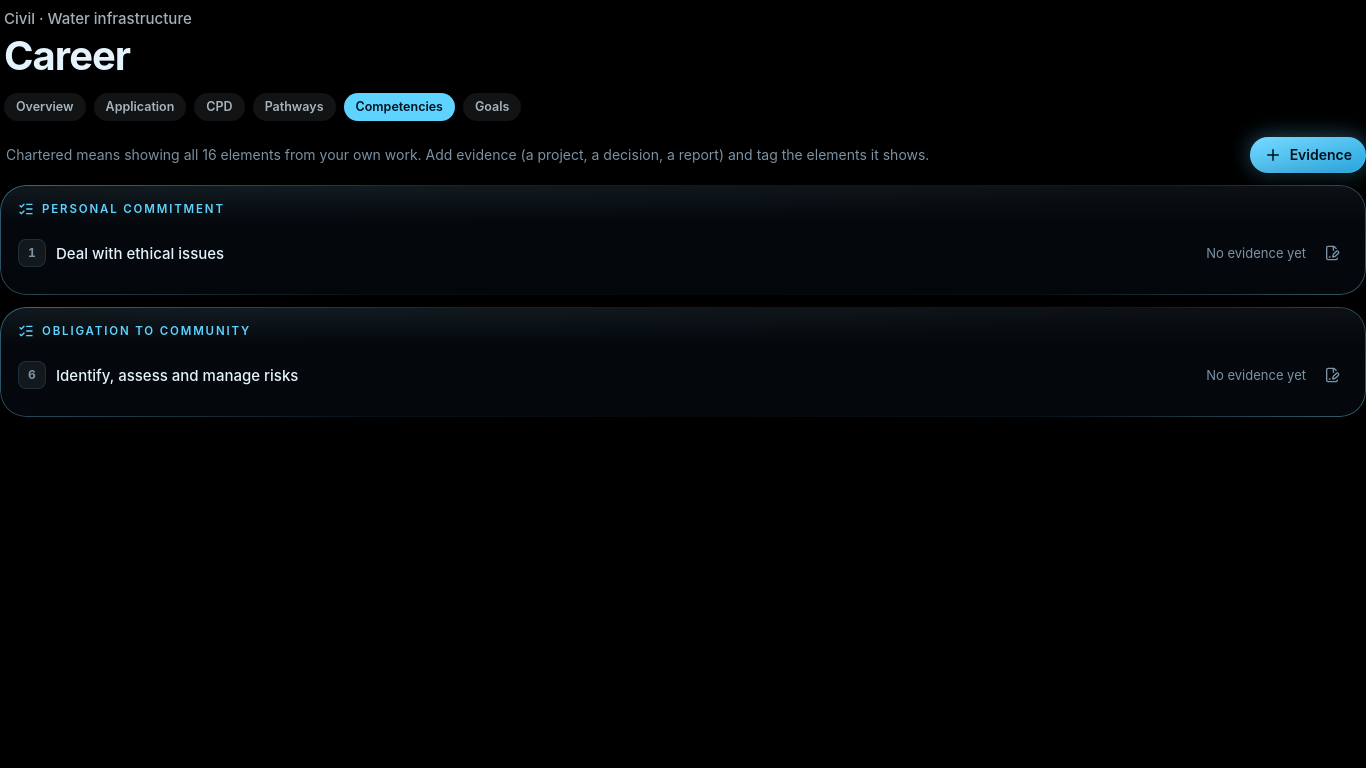
Test case: <Career /> › adds evidence tagged with competency elements and a Siris link
The image size is (1366, 768).
Expected: the text "No evidence yet" is shown 2 times, [1206,244,1306,262]; [1206,366,1306,384]
Click the button "Evidence". click: (1308, 155)
box: [1250,137,1365,173]
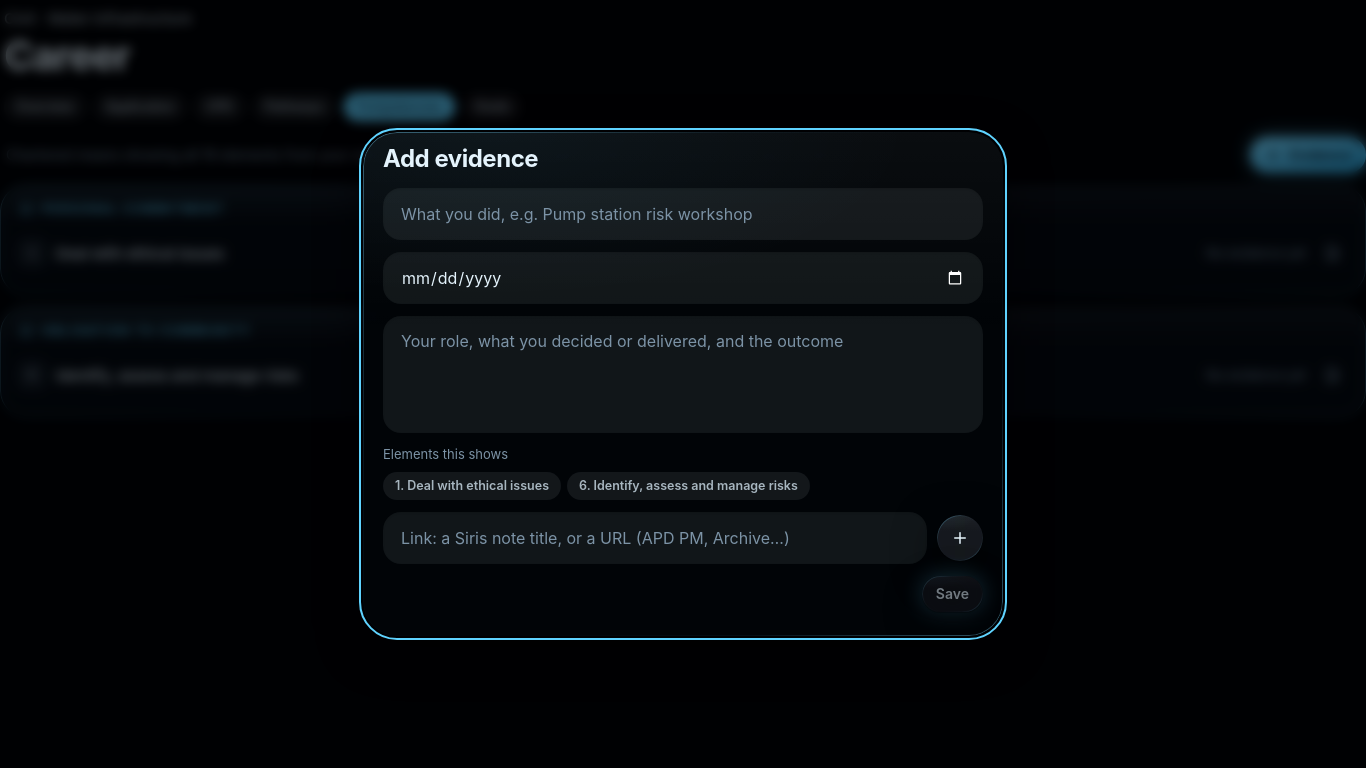
Type "Pump station risk workshop" into the field named "Title". click: (683, 214)
box: [383,188,983,240]
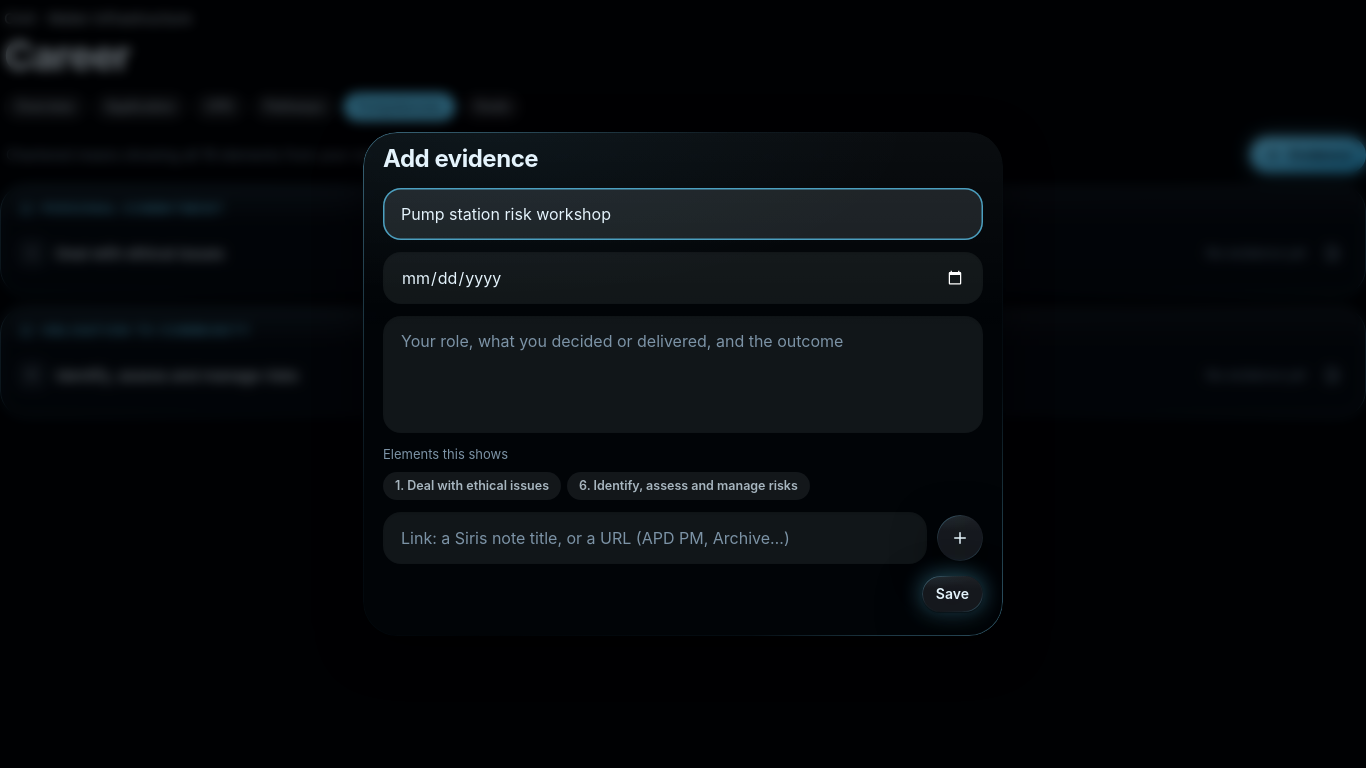
Click the button "6. Identify, assess and manage risks". click: (688, 486)
box: [567,472,810,500]
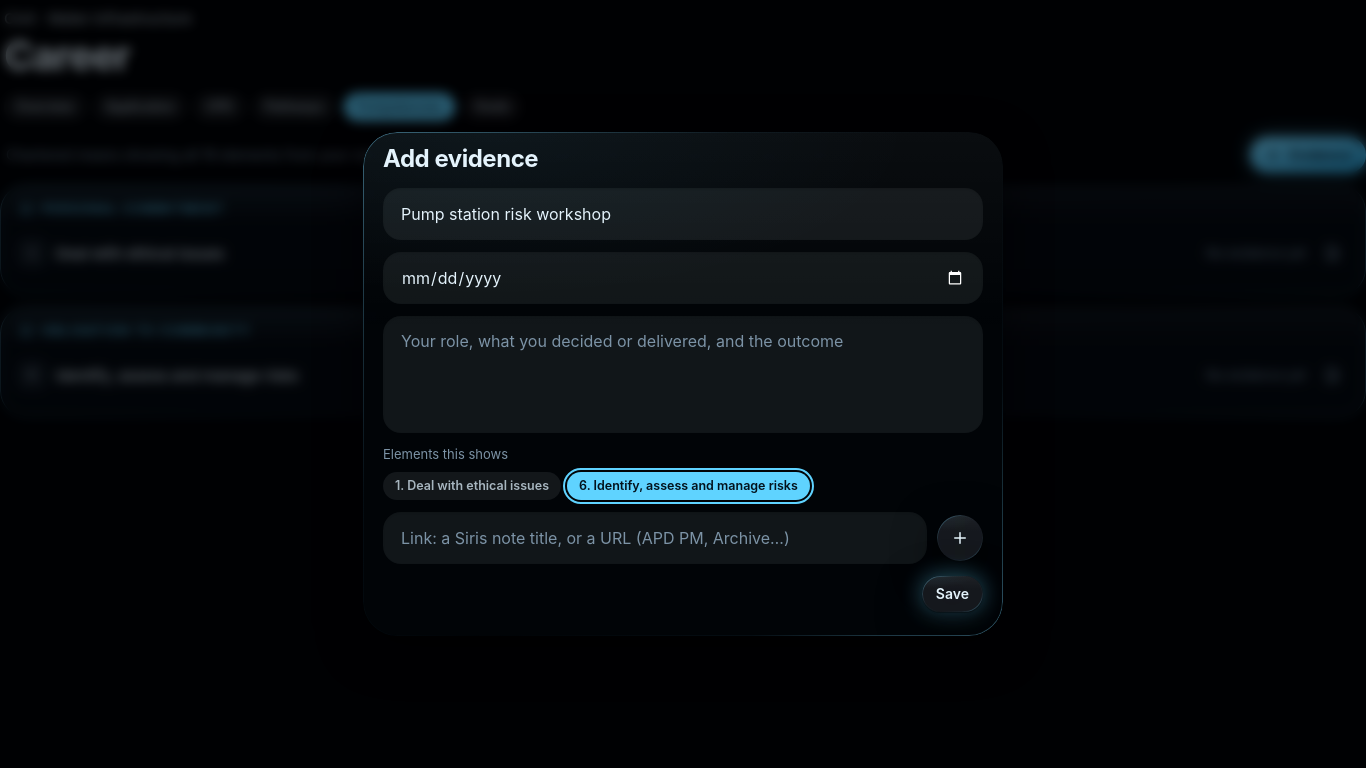
Type "Pump Station 4 upgrade" into the field named "Add a link". click: (655, 538)
box: [383,512,927,564]
Then press Enter
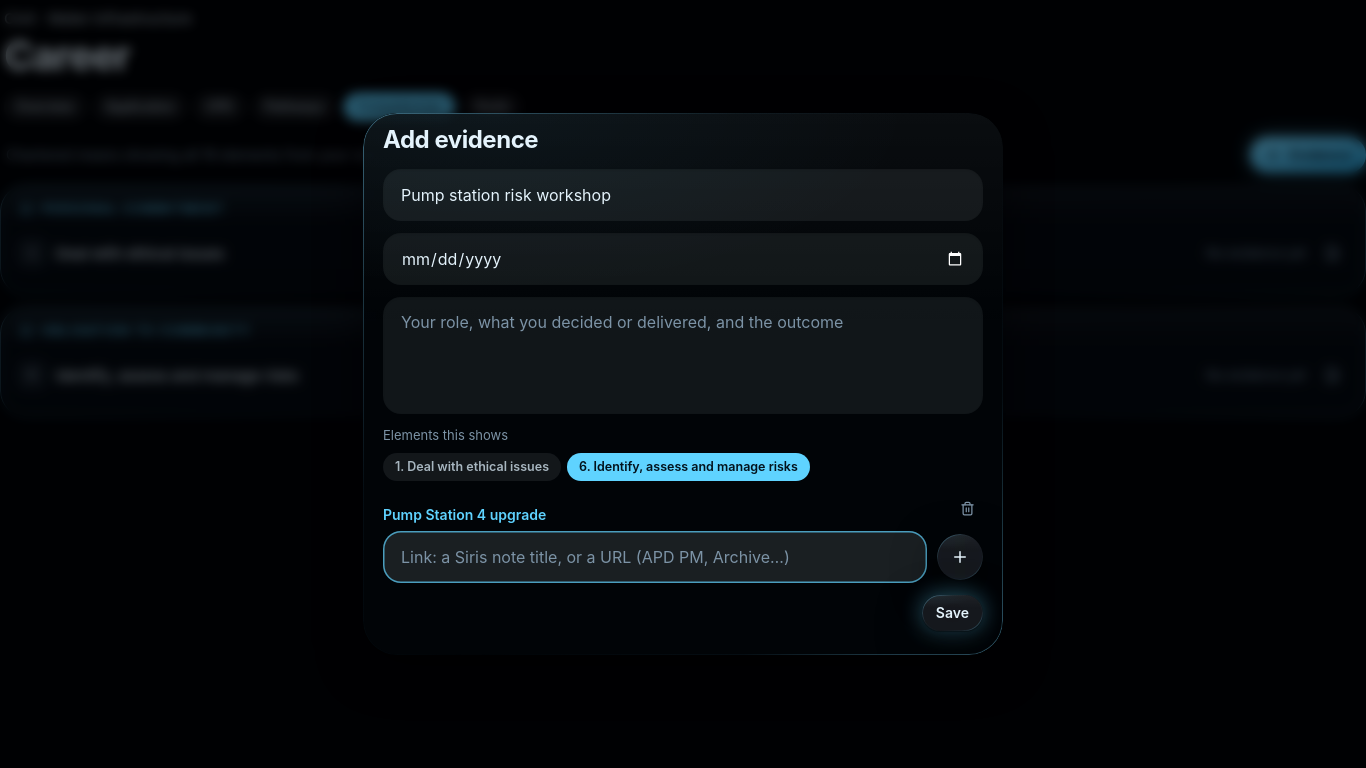
Click the button "Save". click: (952, 613)
box: [922,595,983,631]
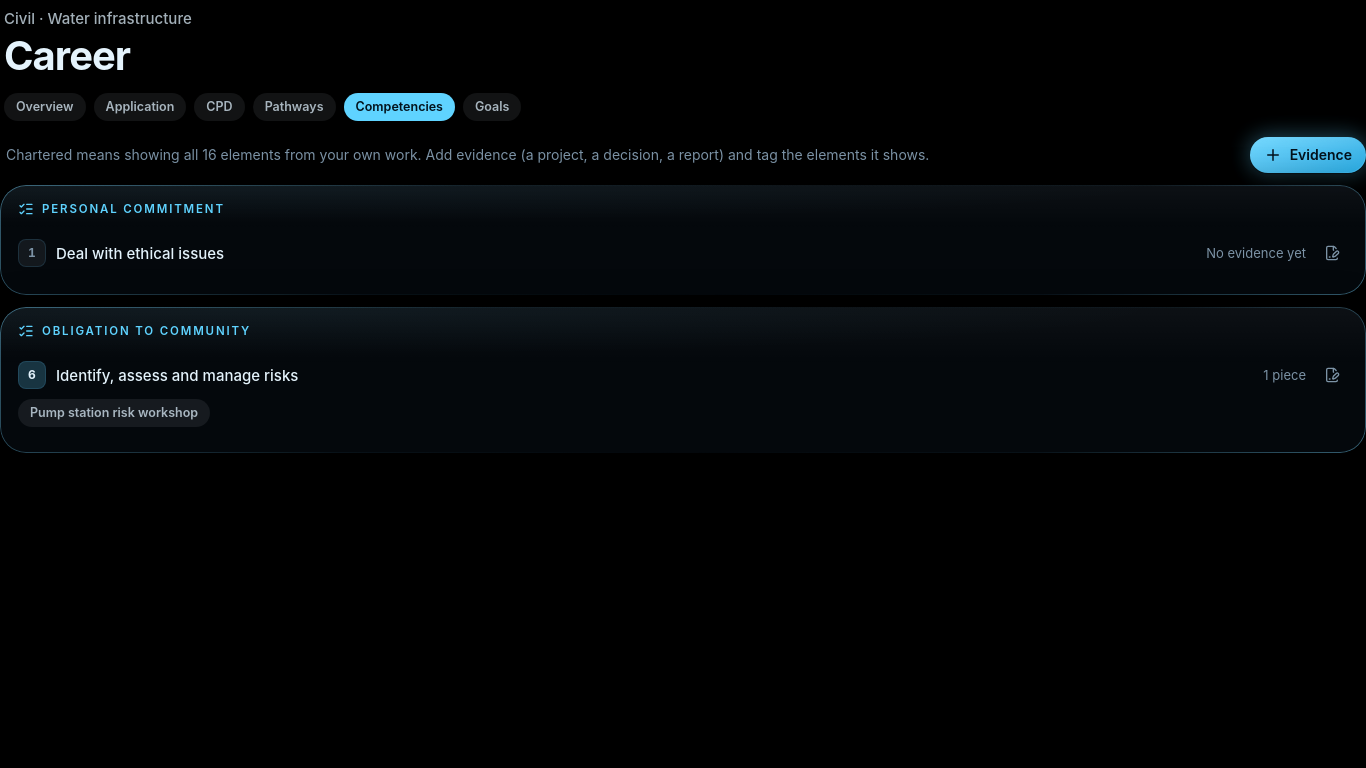
Expected: the button "Pump station risk workshop" is shown, [18,399,210,427]
